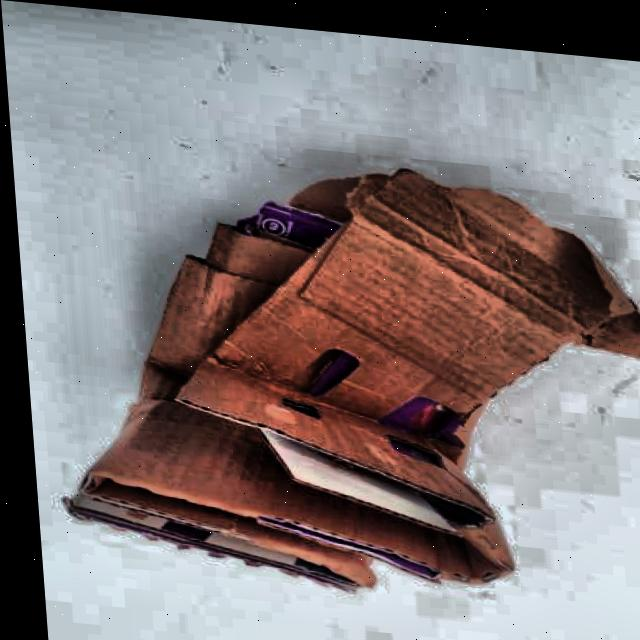cardboard: (37, 135, 640, 626)
